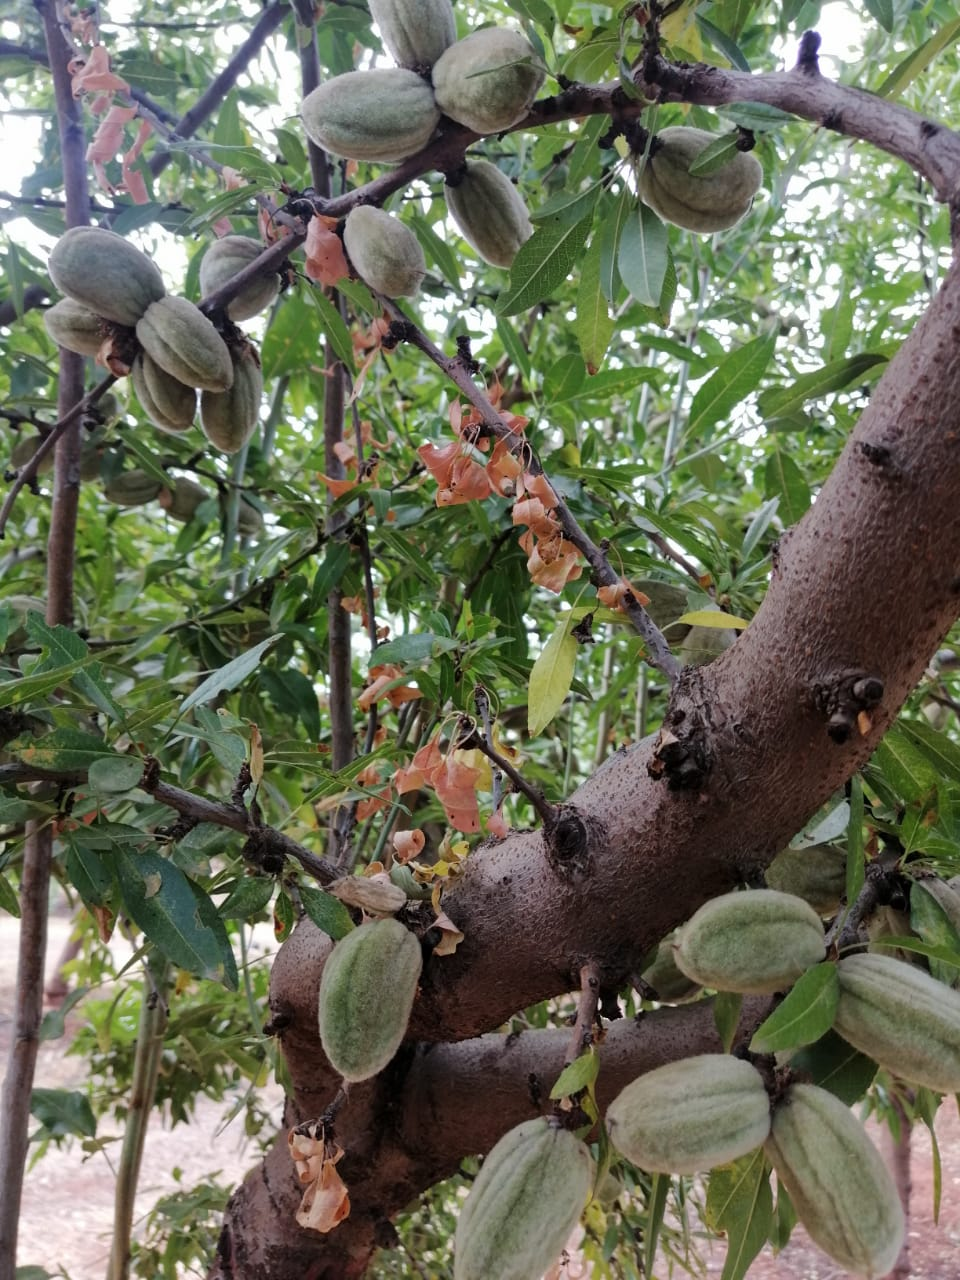chancre fusicocum: (418, 380, 655, 633), (56, 17, 298, 235), (392, 711, 552, 837)
